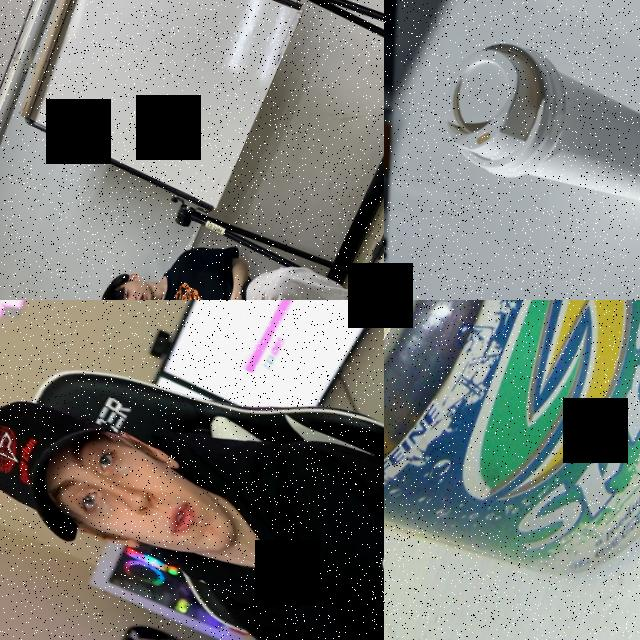can: (384, 300, 640, 639)
cup: (422, 20, 640, 245)
